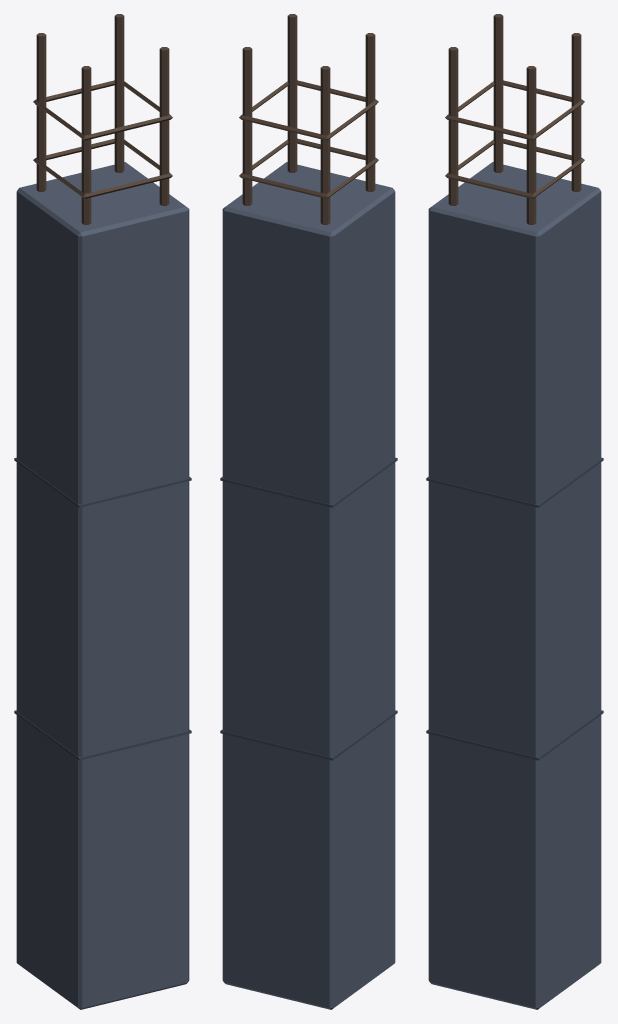
File: build_unfinished_column.glb
3 renders of one model, left to right at view 1: azimuth 30°, elevation 25°; view 2: azimuth 150°, elevation 25°; view 3: azimuth 330°, elevation 25°, orthographic.
Visible parts, largest first — view 1: concrete_raw_cast, rust, concrete; view 2: concrete_raw_cast, rust, concrete; view 3: concrete_raw_cast, rust, concrete.
Part boxes in pixels (box(x1,y1,x2,y2)): concrete_raw_cast: box(16, 162, 189, 1009); rust: box(33, 14, 172, 224); concrete: box(14, 457, 191, 760); concrete_raw_cast: box(222, 162, 395, 1009); rust: box(239, 14, 378, 224); concrete: box(220, 457, 397, 760); concrete_raw_cast: box(428, 162, 601, 1009); rust: box(445, 14, 584, 224); concrete: box(426, 457, 603, 760).
Bounding box in the file's own units: 0.605 × 4.8 × 0.605.
